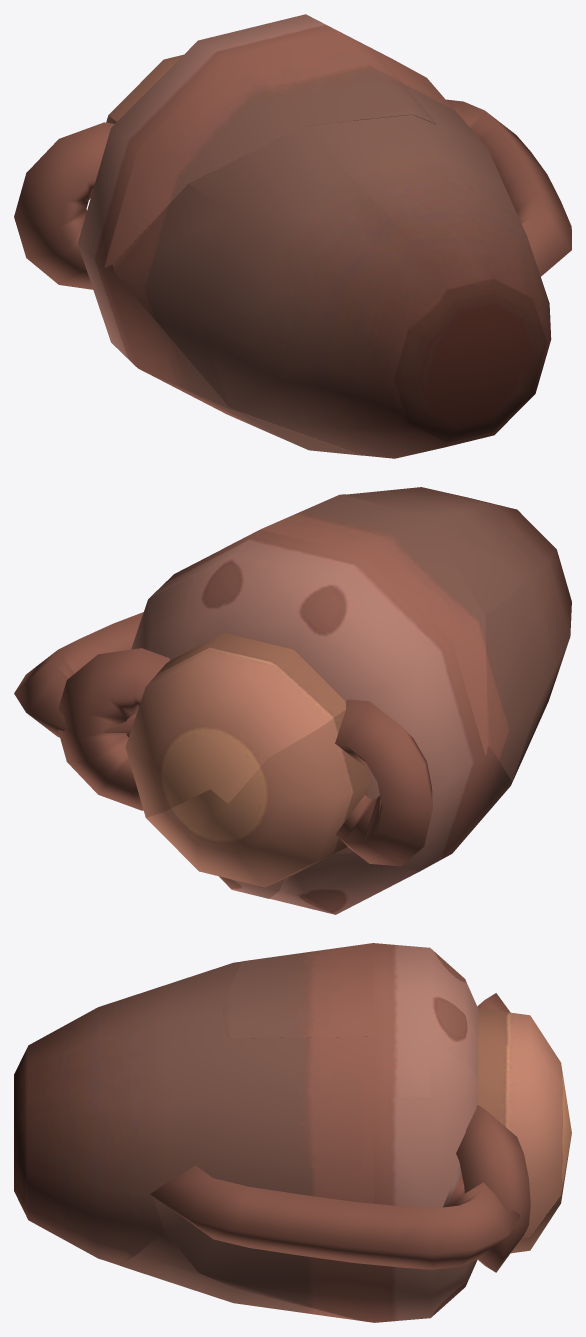
Rendered from Pottery_03 (3).fbx.
3 views of the same model, one above another, from view 1: azimuth 30°, elevation 25°; view 2: azimuth 150°, elevation 25°; view 3: azimuth 270°, elevation 25° (orthographic). The views are drawn at different scales.
Parts seen in each view (by area): view 1: Pottery_03_Solid, Pottery_Shattered_04, Pottery_Shattered_07, Pottery_Shattered_01, Pottery_Shattered_05, Pottery_Shattered_02; view 2: Pottery_03_Solid, Pottery_Shattered_02, Pottery_Shattered_03, Pottery_Shattered_04, Pottery_Shattered_07, Pottery_Shattered_01, Pottery_Shattered_05, Pottery_Shattered_06; view 3: Pottery_03_Solid, Pottery_Shattered_06, Pottery_Shattered_01, Pottery_Shattered_02, Pottery_Shattered_07, Pottery_Shattered_05, Pottery_Shattered_04, Pottery_Shattered_03.
Part boxes in pixels (x1,y1,x2,y2): Pottery_03_Solid: (14, 14, 551, 434); Pottery_Shattered_04: (112, 131, 534, 458); Pottery_Shattered_07: (104, 32, 436, 267); Pottery_Shattered_01: (446, 99, 571, 276); Pottery_Shattered_05: (114, 345, 361, 455); Pottery_Shattered_02: (109, 54, 183, 121); Pottery_03_Solid: (58, 487, 526, 871); Pottery_Shattered_02: (125, 632, 345, 817); Pottery_Shattered_03: (146, 710, 371, 887); Pottery_Shattered_04: (433, 504, 571, 781); Pottery_Shattered_07: (233, 494, 487, 756); Pottery_Shattered_01: (14, 612, 143, 737); Pottery_Shattered_05: (269, 787, 509, 914); Pottery_Shattered_06: (131, 576, 284, 898); Pottery_03_Solid: (14, 943, 530, 1272); Pottery_Shattered_06: (152, 1043, 478, 1322); Pottery_Shattered_01: (150, 1165, 520, 1269); Pottery_Shattered_02: (478, 1008, 571, 1237); Pottery_Shattered_07: (222, 943, 373, 1038); Pottery_Shattered_05: (120, 1231, 360, 1320); Pottery_Shattered_04: (14, 1184, 130, 1265); Pottery_Shattered_03: (511, 1140, 570, 1253).
Size of the model in its own units: 267 by 196 by 301.
